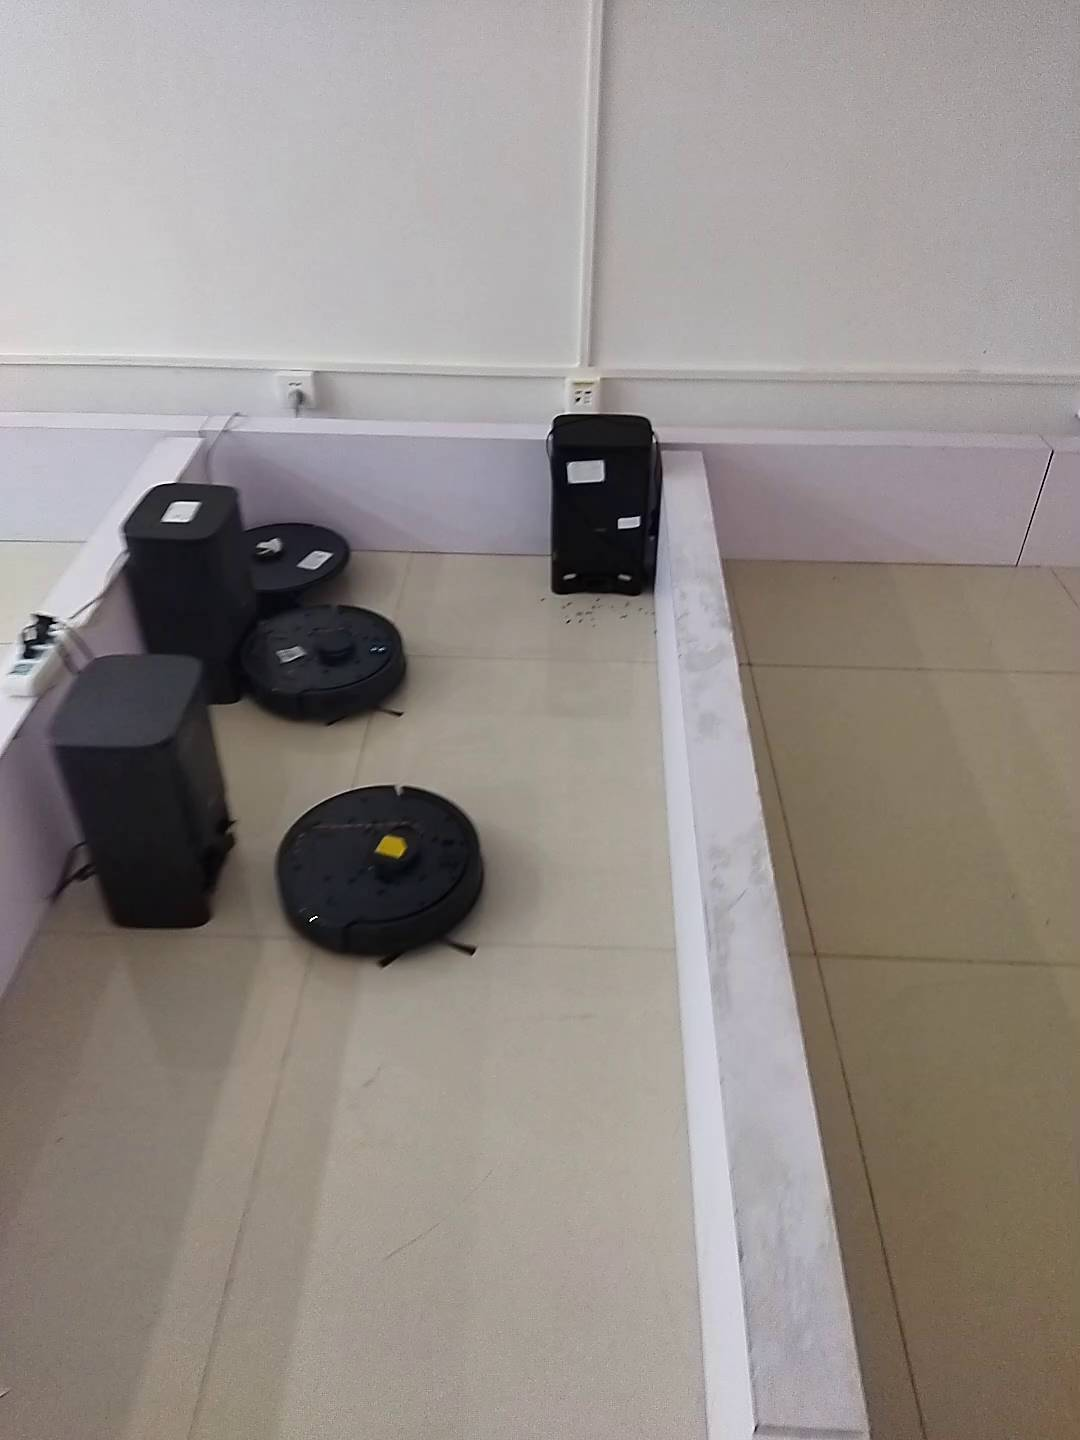dust collecting barrel: (47, 653, 233, 930), (119, 482, 251, 705), (546, 415, 663, 595)
